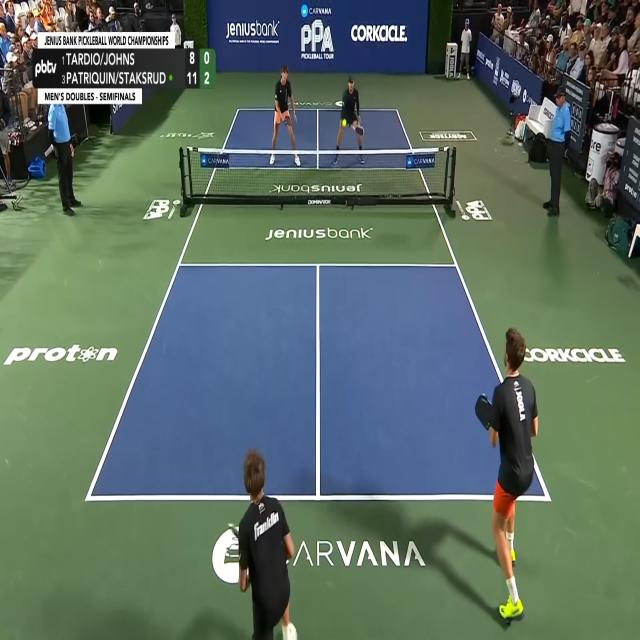ball: (341, 118, 347, 128)
